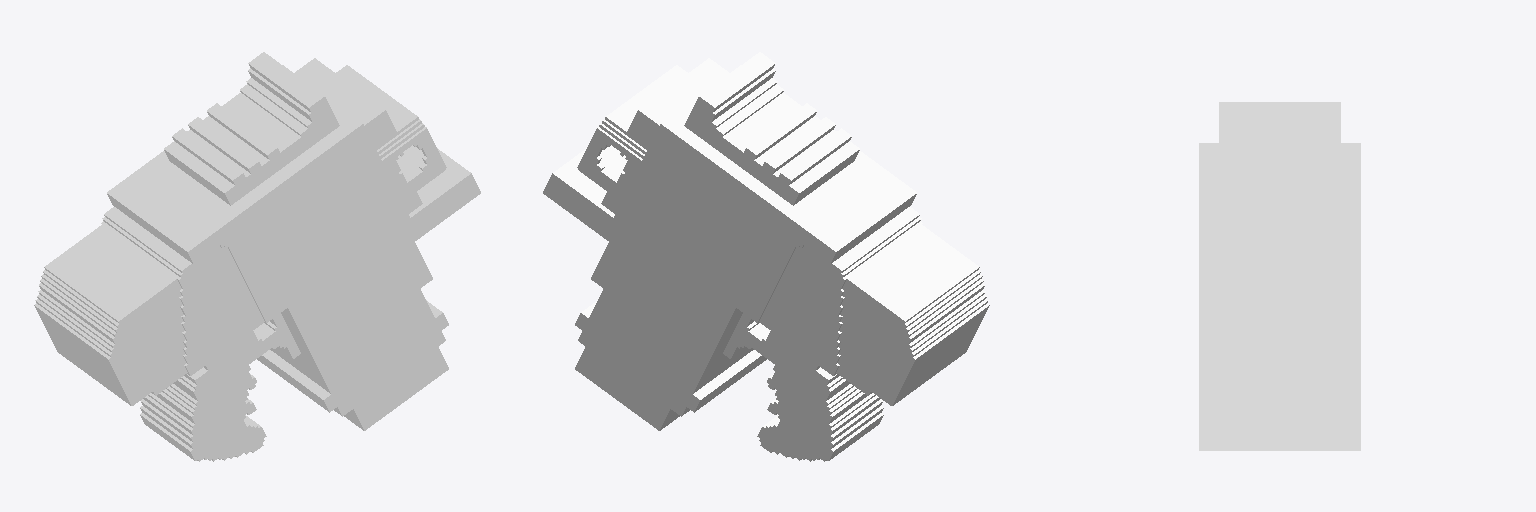
Rendered from storm_bolter.obj.
3 renders of one model, left to right at view 1: azimuth 30°, elevation 25°; view 2: azimuth 150°, elevation 25°; view 3: azimuth 270°, elevation 25°, orthographic.
Parts seen in each view (by area): view 1: Storm_Bolter_cartoon; view 2: Storm_Bolter_cartoon; view 3: Storm_Bolter_cartoon.
Part boxes in pixels (x1,y1,x2,y2): Storm_Bolter_cartoon: (34,52,480,461); Storm_Bolter_cartoon: (543,52,989,461); Storm_Bolter_cartoon: (1199,102,1360,450).
Bounding box in the file's own units: 1.97 × 1.76 × 0.75.